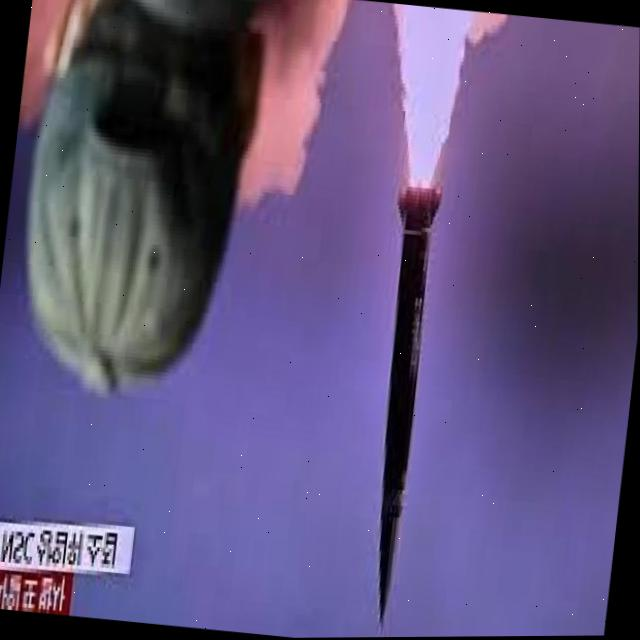missile: (345, 180, 461, 635)
